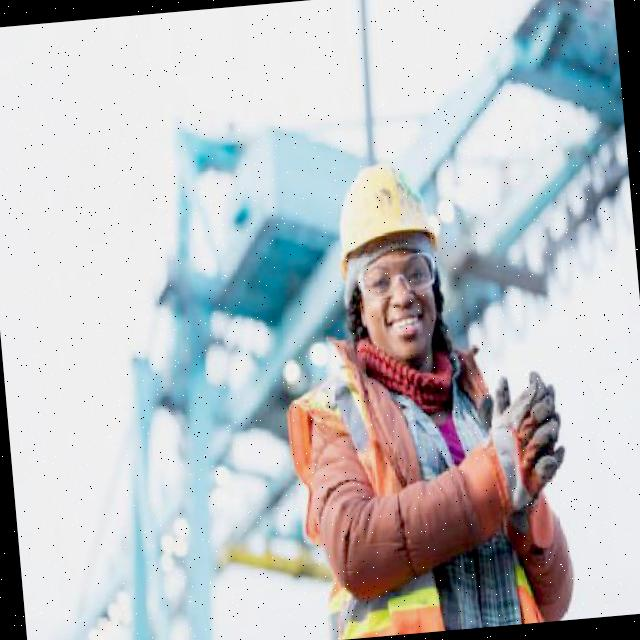helmet: (332, 159, 442, 271)
vest: (282, 346, 551, 640)
